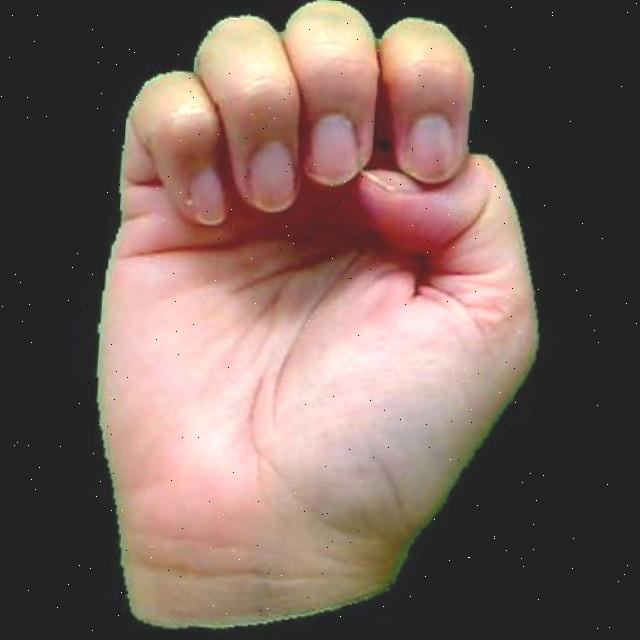e: (52, 0, 582, 640)
